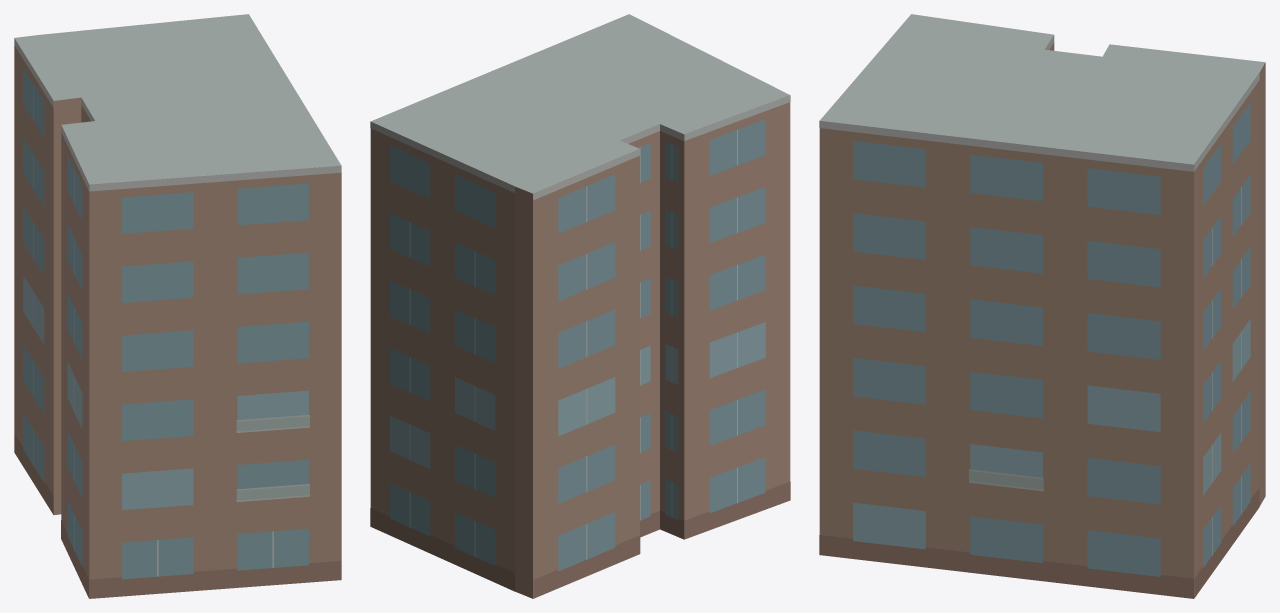
Rendered from survey-upis-32884028.glb.
The picture shows the model from 3 angles, left to right: view 1: azimuth 30°, elevation 25°; view 2: azimuth 150°, elevation 25°; view 3: azimuth 270°, elevation 25°; orthographic projection. The views are drawn at different scales.
Visible parts, largest first — view 1: survey-upis-32884028.tmp; view 2: survey-upis-32884028.tmp; view 3: survey-upis-32884028.tmp.
Part boxes in pixels (bbox=[...]): survey-upis-32884028.tmp: bbox=[14, 14, 341, 598]; survey-upis-32884028.tmp: bbox=[370, 14, 790, 598]; survey-upis-32884028.tmp: bbox=[819, 14, 1265, 598].
Size of the model in its own units: 10.83 by 14.55 by 13.55.
